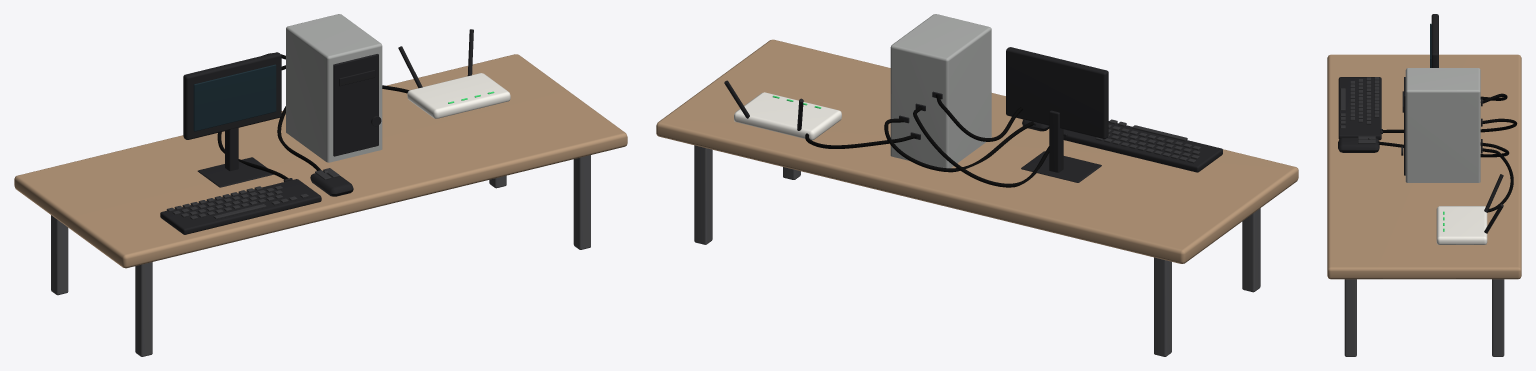
The model's file is desk_setup.glb.
3 views of the same model, side by side, from view 1: azimuth 30°, elevation 25°; view 2: azimuth 150°, elevation 25°; view 3: azimuth 270°, elevation 25° (orthographic). The views are drawn at different scales.
Parts seen in each view (by area): view 1: SM_Office_Mouse_Left_Click; view 2: SM_Office_Mouse_Left_Click; view 3: SM_Office_Mouse_Left_Click.
Part boxes in pixels (left/top/right/bottom): SM_Office_Mouse_Left_Click: left=14, top=14, right=627, bottom=356; SM_Office_Mouse_Left_Click: left=656, top=14, right=1298, bottom=356; SM_Office_Mouse_Left_Click: left=1327, top=14, right=1521, bottom=356.
Size of the model in its own units: 2.45 by 1.03 by 0.9349.
